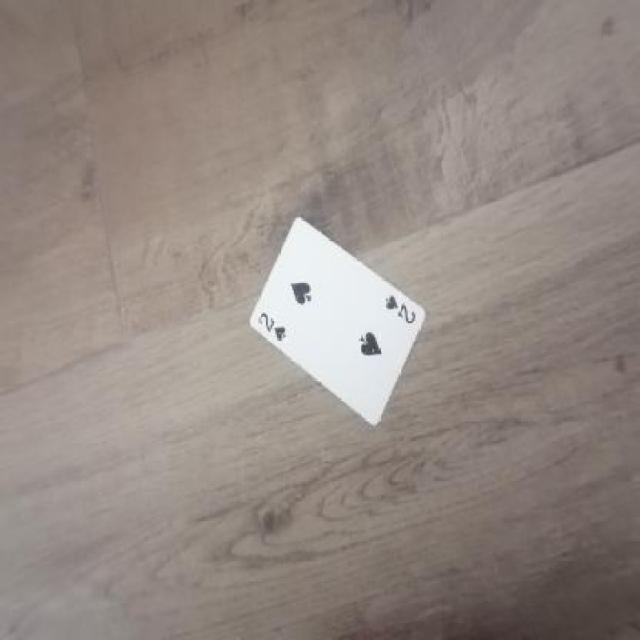2S: (378, 288, 422, 326), (251, 308, 289, 346)
